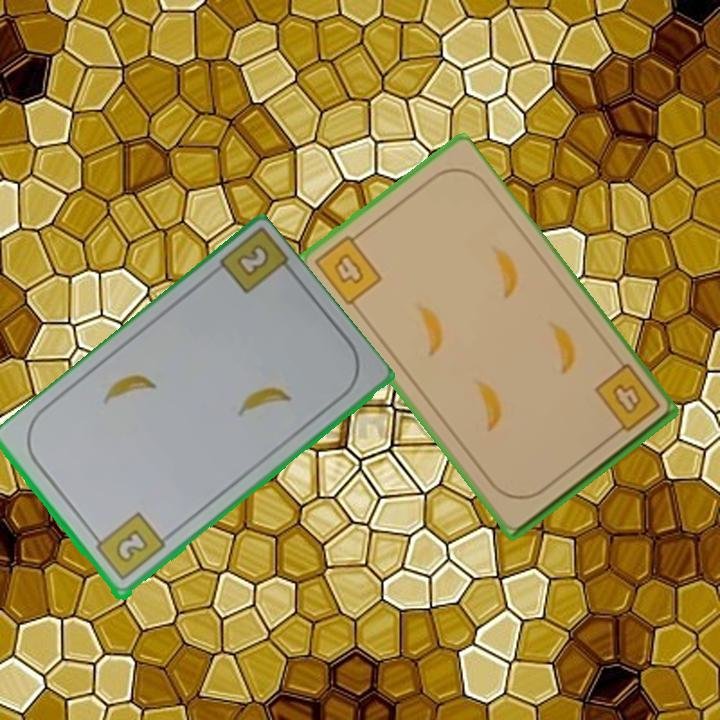2b: (89, 509, 168, 584), (236, 243, 269, 276)
4b: (310, 228, 385, 309), (590, 360, 663, 441)
